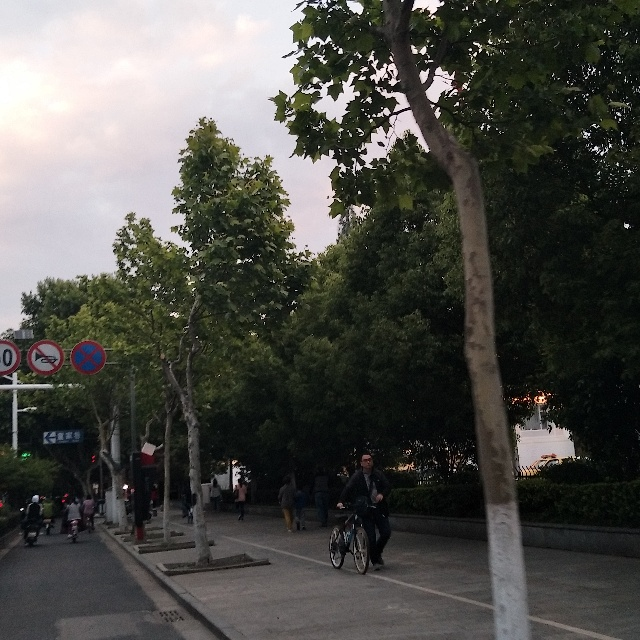nohonk: (33, 344, 60, 371)
stop: (73, 342, 103, 373)
